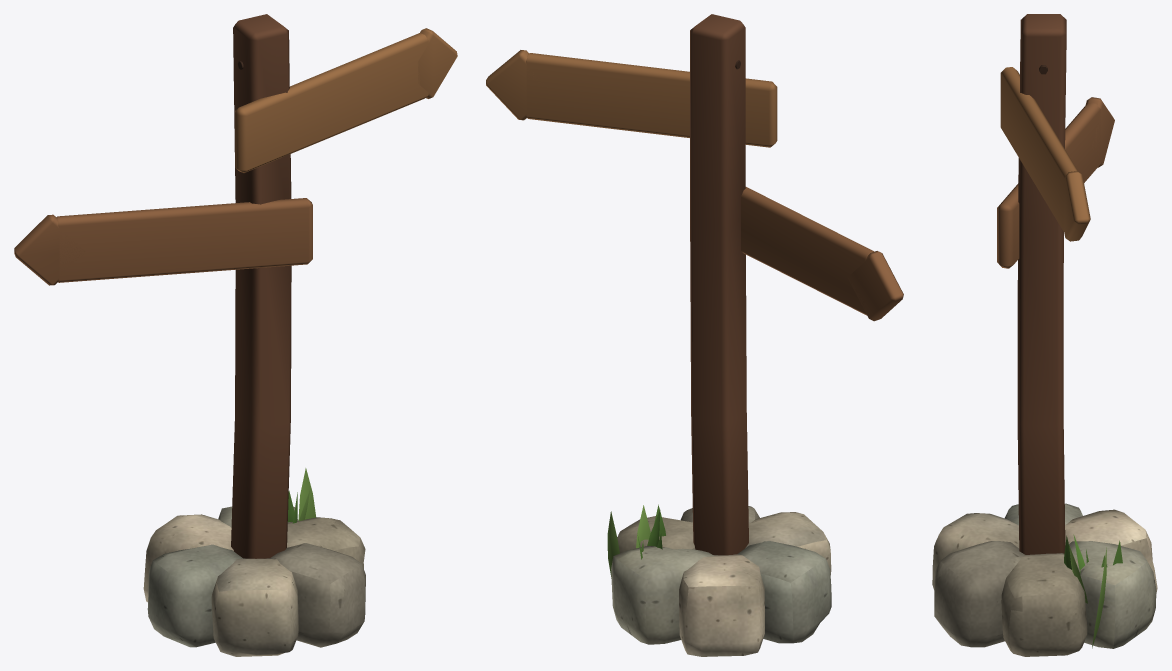
The model's file is signpost.gltf.
3 views of the same model, side by side, from view 1: azimuth 30°, elevation 25°; view 2: azimuth 150°, elevation 25°; view 3: azimuth 270°, elevation 25° (orthographic).
Parts seen in each view (by area): view 1: Signpost, Stones; view 2: Signpost, Stones; view 3: Signpost, Stones.
Boxes of the visible parts, x1=… form: Signpost: x1=14, y1=14, x2=457, y2=558; Stones: x1=143, y1=506, x2=365, y2=656; Signpost: x1=486, y1=14, x2=903, y2=578; Stones: x1=611, y1=506, x2=831, y2=656; Signpost: x1=997, y1=14, x2=1122, y2=648; Stones: x1=932, y1=503, x2=1157, y2=656.
Bounding box in the file's own units: 1.41 × 1.88 × 0.6372.
8 materials, 1 textured.
